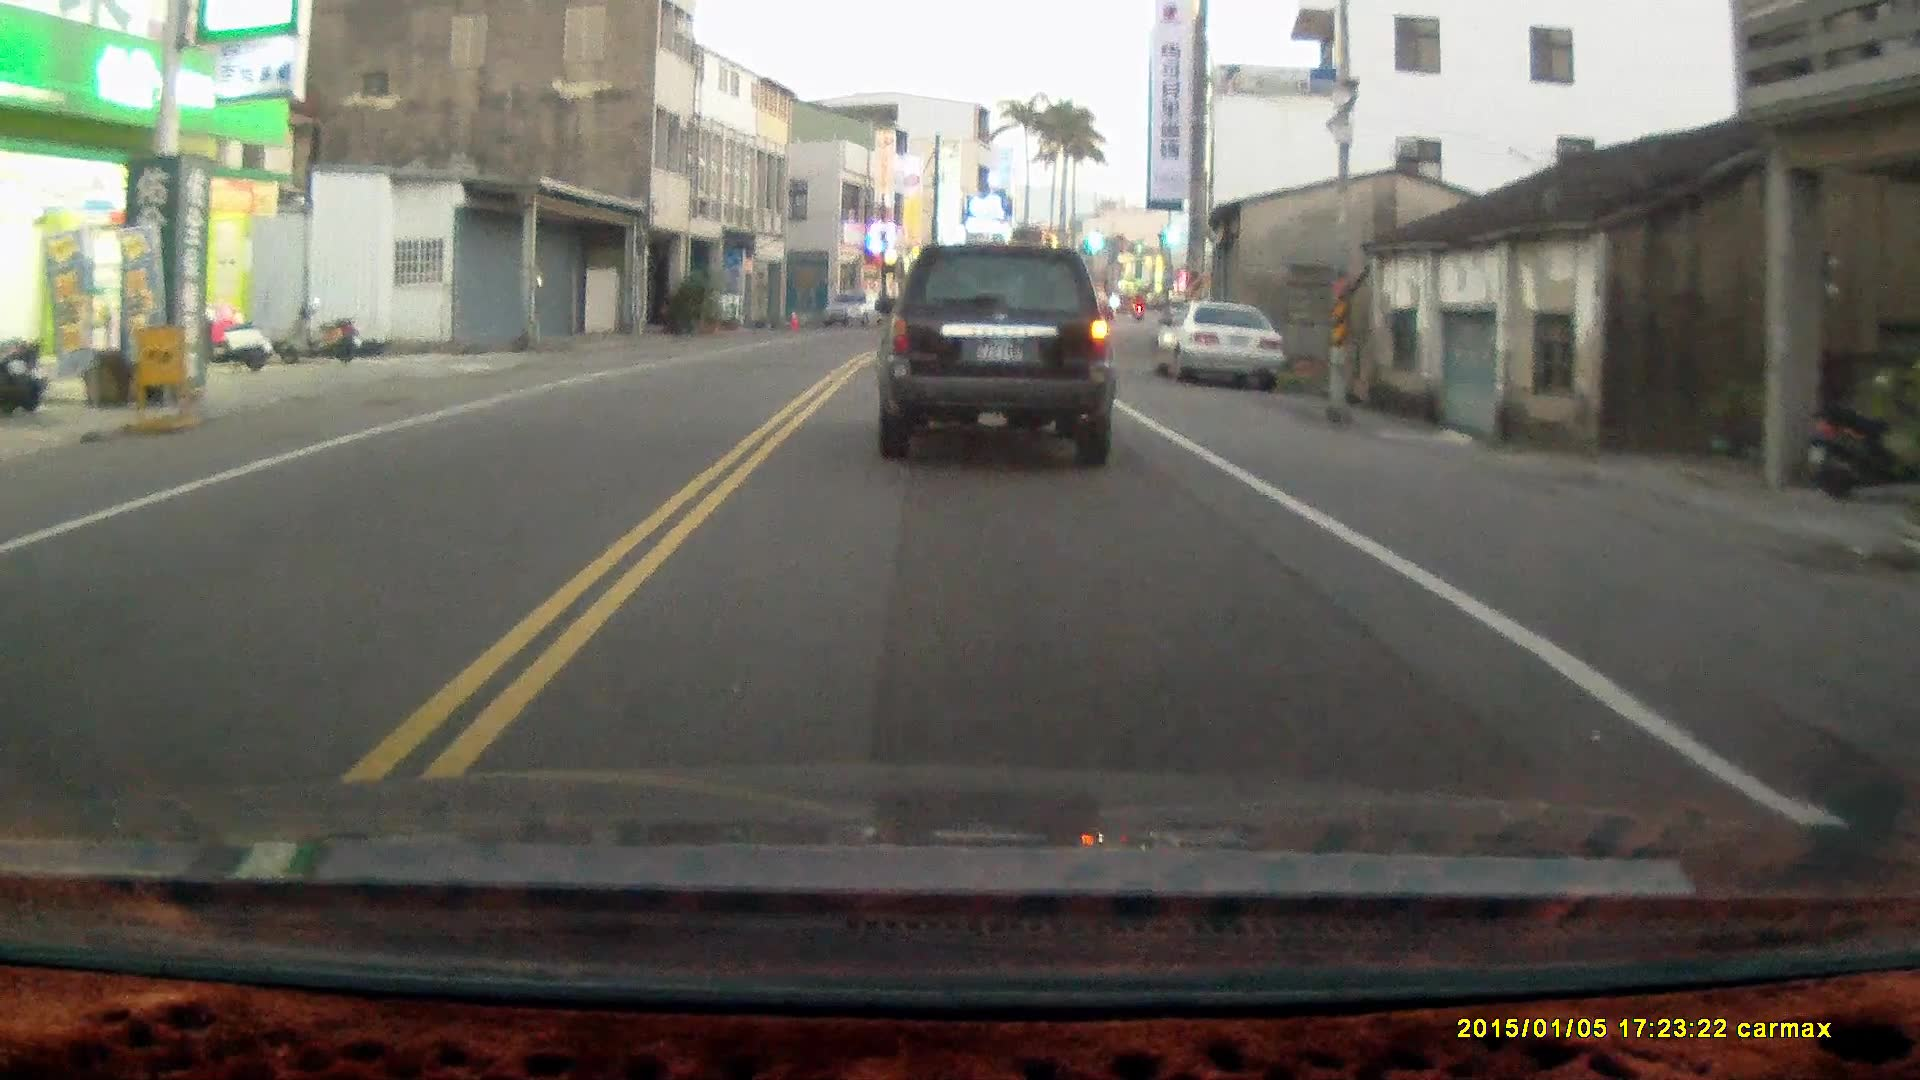vehicle: (877, 237, 1122, 468), (1159, 305, 1286, 392), (824, 295, 886, 340)
